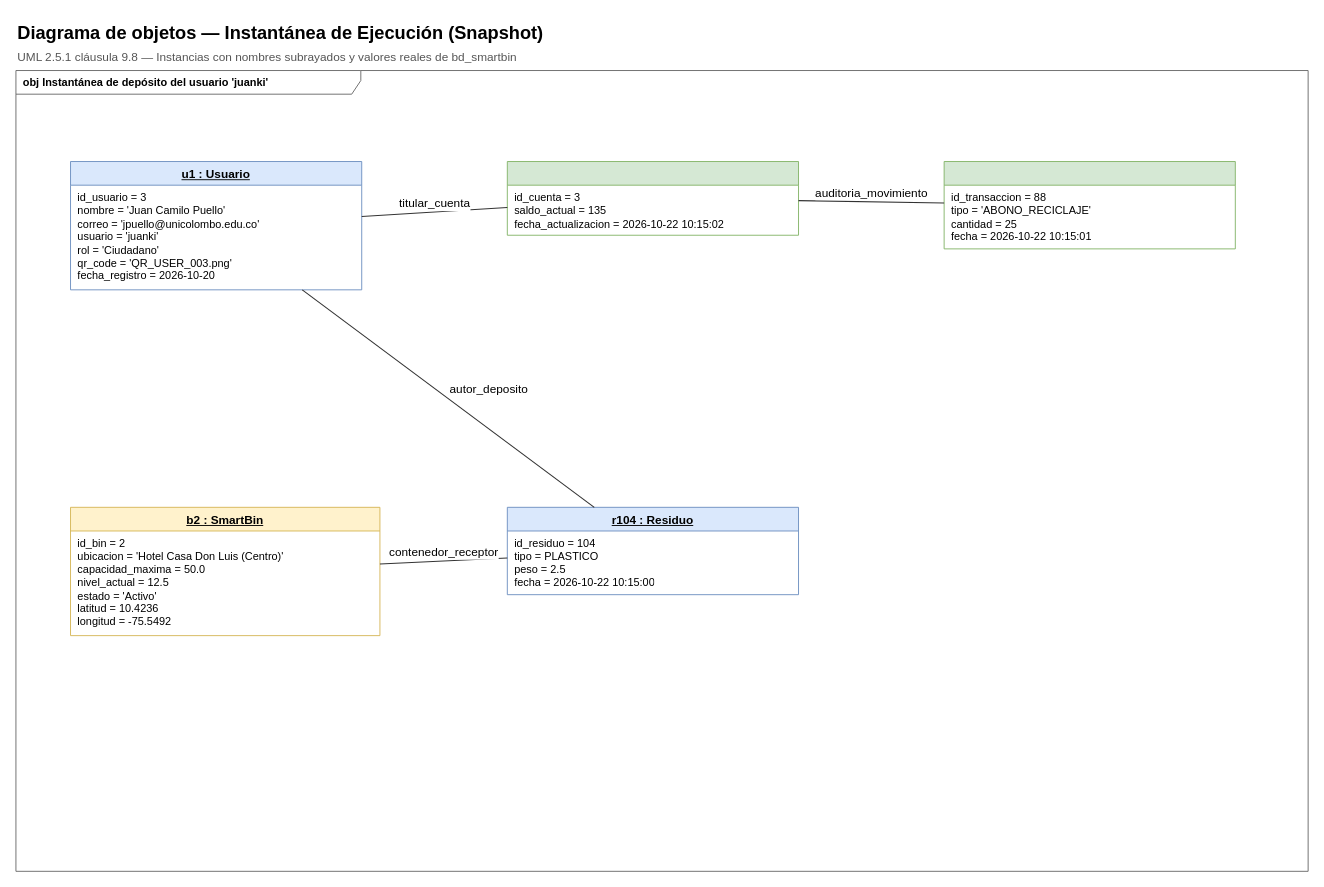
The diagram is 1324 pixels wide and 887 high, and some of its shapes have lost their labels. The shapes that lost their labels are listed below. From the top down, each one's box as (x1, y1, x2, y2) in pixels, then its label:
(506, 161, 799, 235): cp1 : CuentaPuntos
(943, 161, 1235, 249): t88 : TransaccionPuntos
